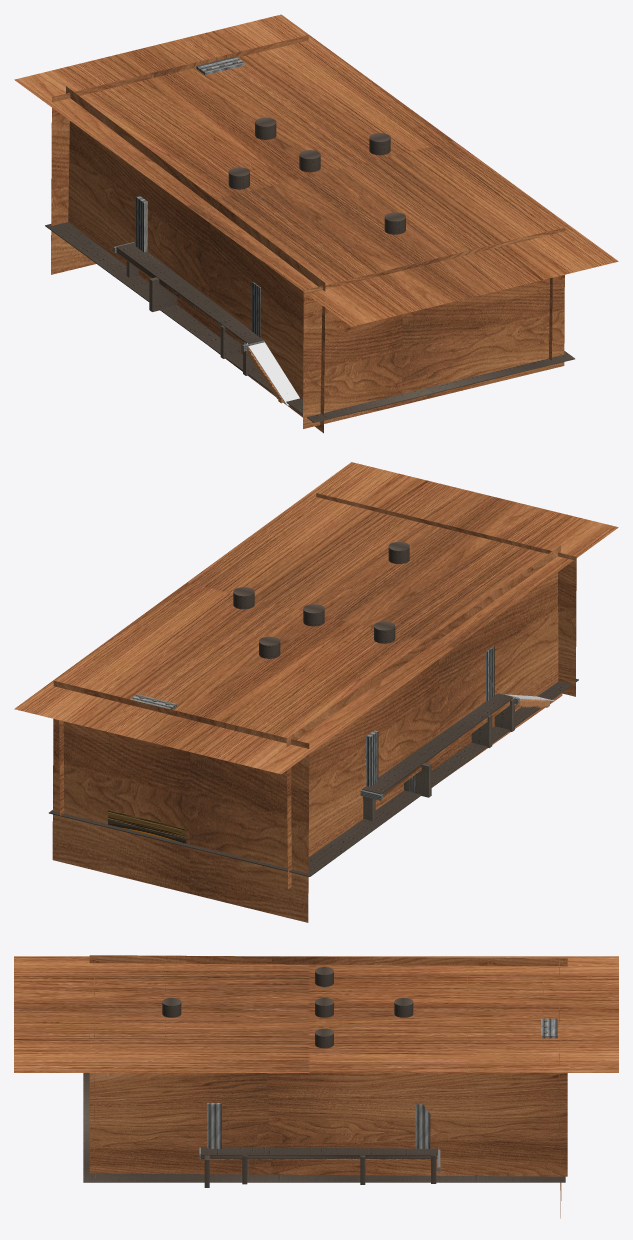
The model's file is level.glb.
The picture shows the model from 3 angles, top to bottom: view 1: azimuth 30°, elevation 25°; view 2: azimuth 150°, elevation 25°; view 3: azimuth 270°, elevation 25°; orthographic projection. The views are drawn at different scales.
Visible parts, largest first — view 1: Cube.108, wall.005, wall.007, Cube.005, wall.006, Cube.119, ramp, Cube.201, Cube.116, wall.004; view 2: Cube.108, wall.006, wall.007, Cube.005, wall.005, Cube.119, Cube.106, wall.004, Cube.201, Cube.116, Cube.131; view 3: Cube.108, wall.004, Cube.005, wall.007, Cube.119, Cube.204, Cube.203.
Part boxes in pixels (x1,y1,x2,y2): Cube.108: (14, 14, 618, 326); wall.005: (303, 227, 565, 428); wall.007: (66, 86, 325, 433); Cube.005: (45, 222, 574, 422); wall.006: (51, 35, 308, 274); Cube.119: (116, 242, 263, 343); ramp: (247, 342, 299, 405); Cube.201: (135, 196, 147, 252); Cube.116: (149, 277, 177, 311); wall.004: (298, 42, 552, 360); Cube.108: (14, 462, 618, 774); wall.006: (52, 681, 309, 922); wall.007: (286, 545, 562, 888); Cube.005: (49, 679, 578, 876); wall.005: (316, 493, 576, 696); Cube.119: (362, 693, 513, 796); Cube.106: (108, 809, 186, 843); wall.004: (58, 500, 330, 815); Cube.201: (366, 730, 378, 786); Cube.116: (404, 762, 431, 797); Cube.131: (383, 701, 509, 797); Cube.108: (14, 956, 618, 1072); wall.004: (89, 1062, 567, 1176); Cube.005: (83, 1073, 565, 1182); wall.007: (89, 955, 567, 966); Cube.119: (201, 1147, 437, 1158); Cube.204: (207, 1103, 221, 1148); Cube.203: (415, 1104, 430, 1148).
Size of the model in its own units: 812 by 488 by 1604.
163 materials, 163 textured.
